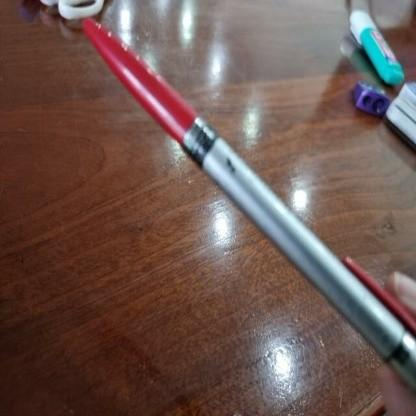not trash: (83, 15, 416, 388), (350, 9, 404, 83), (356, 82, 392, 114)
